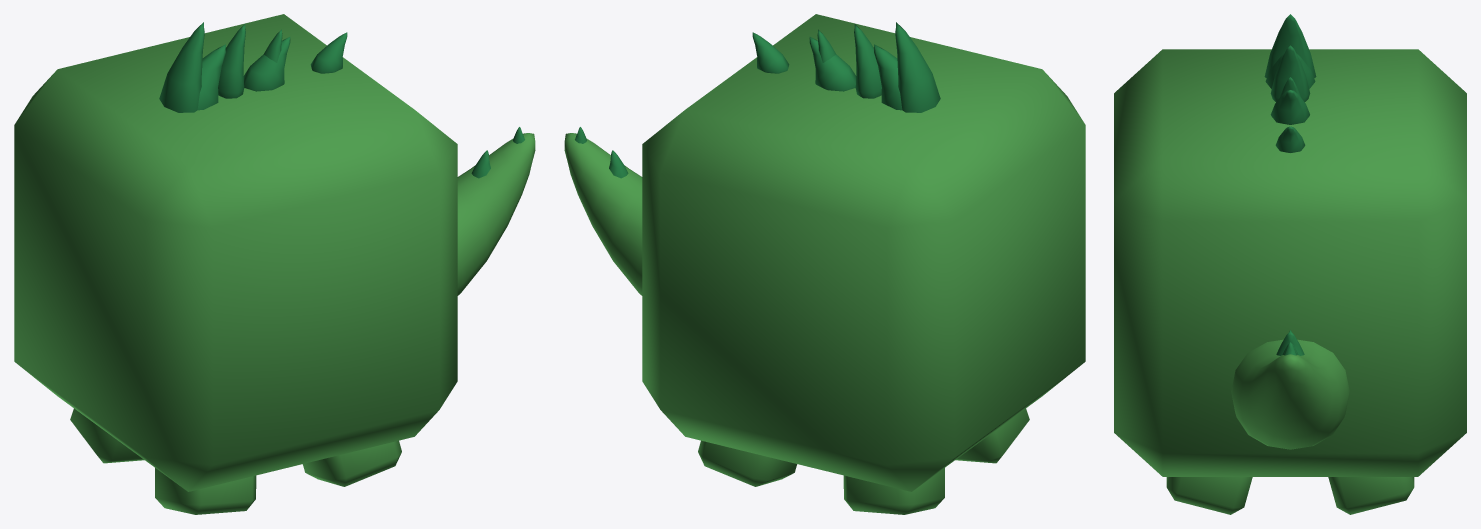
The model's file is DinoLOW.fbx.
The picture shows the model from 3 angles, left to right: view 1: azimuth 30°, elevation 25°; view 2: azimuth 150°, elevation 25°; view 3: azimuth 270°, elevation 25°; orthographic projection. The views are drawn at different scales.
Parts seen in each view (by area): view 1: Dino; view 2: Dino; view 3: Dino.
Part boxes in pixels (<box>): Dino: <box>14,14,535,514</box>; Dino: <box>564,14,1085,514</box>; Dino: <box>1114,14,1466,514</box>.
Bounding box in the file's own units: 123 × 118 × 84.71.
